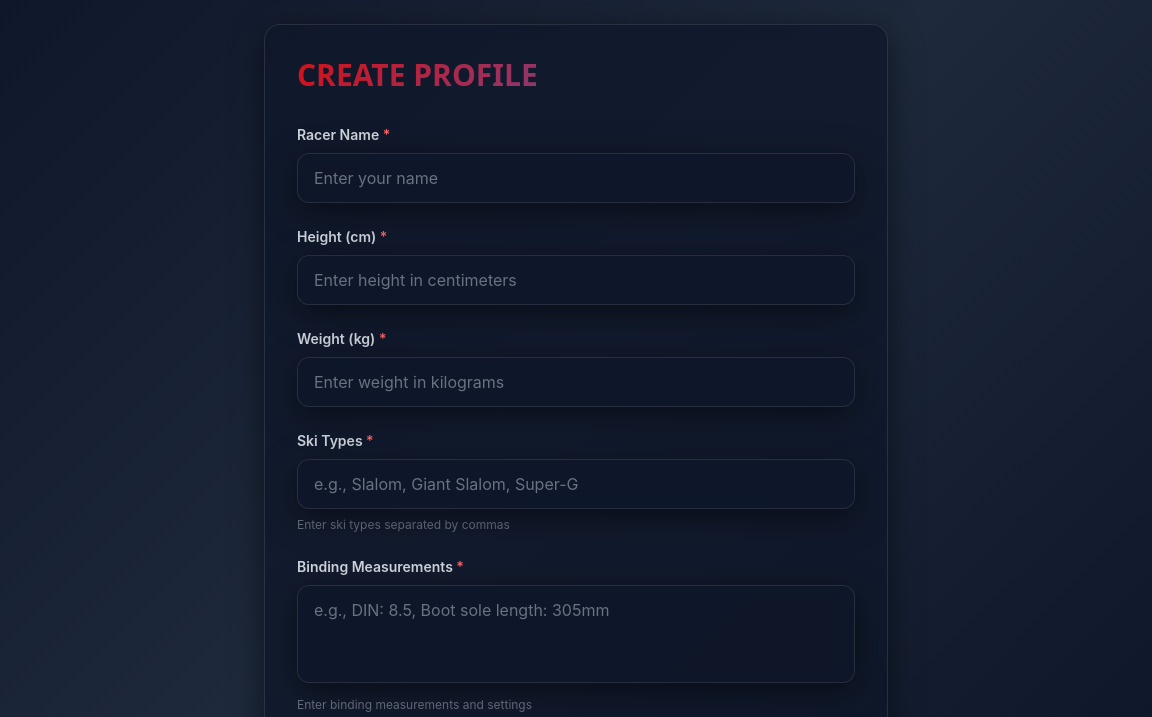
ProfileForm › Validation › should show error when weight is negative
This screenshot has width=1152, height=717.
Type "-5" into the number field labelled "Weight (kg) *" at (576, 382), box [297,357,855,407]
(page scrolled)
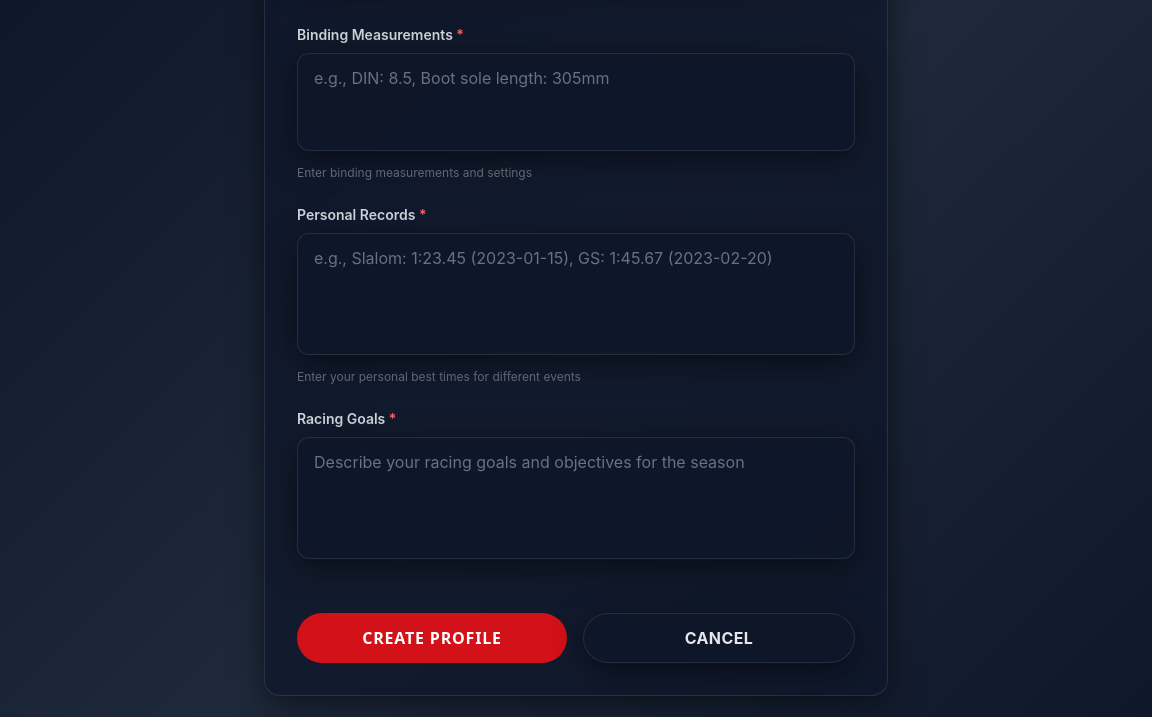
Click the button "Create Profile" at (432, 638), box [297,613,567,663]
(page scrolled)
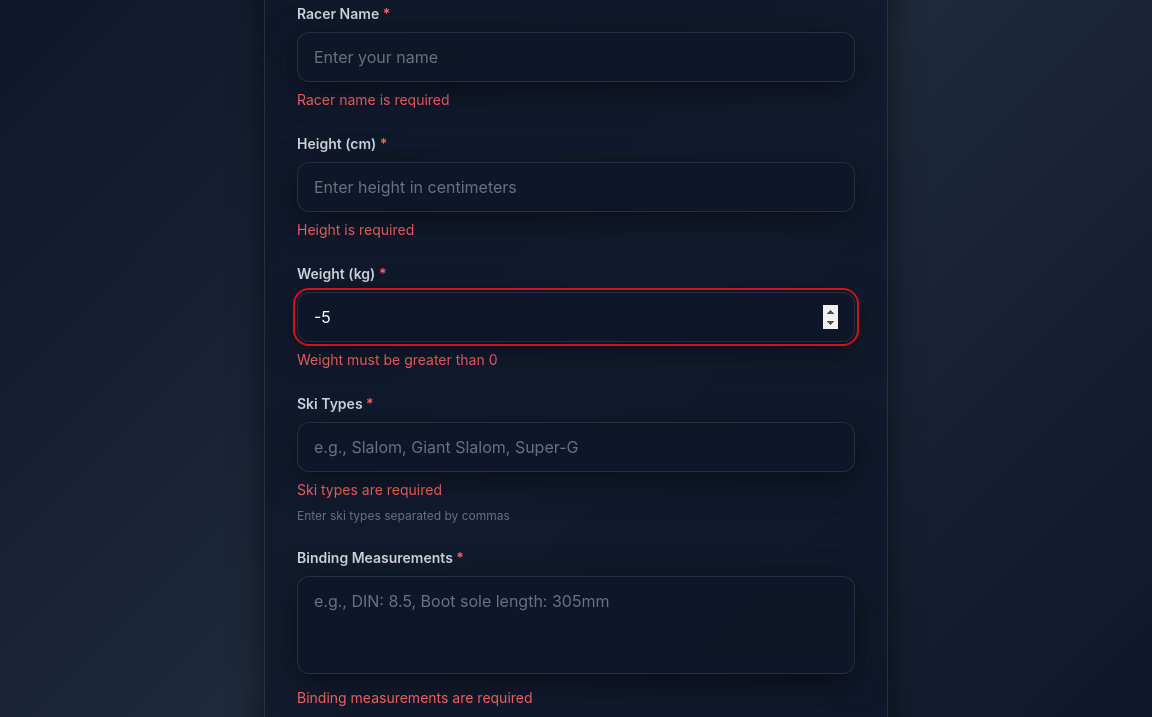
Now the text "Weight must be greater than 0" is shown, box [297,351,498,368]
